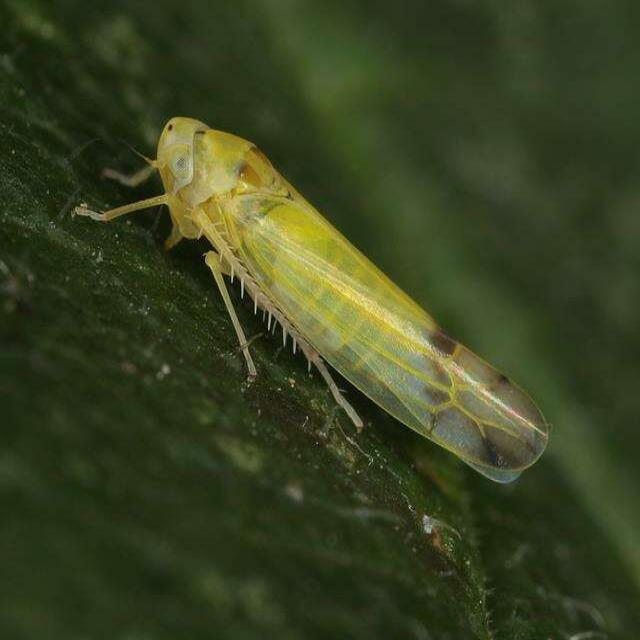Yechan: (93, 97, 543, 486)
